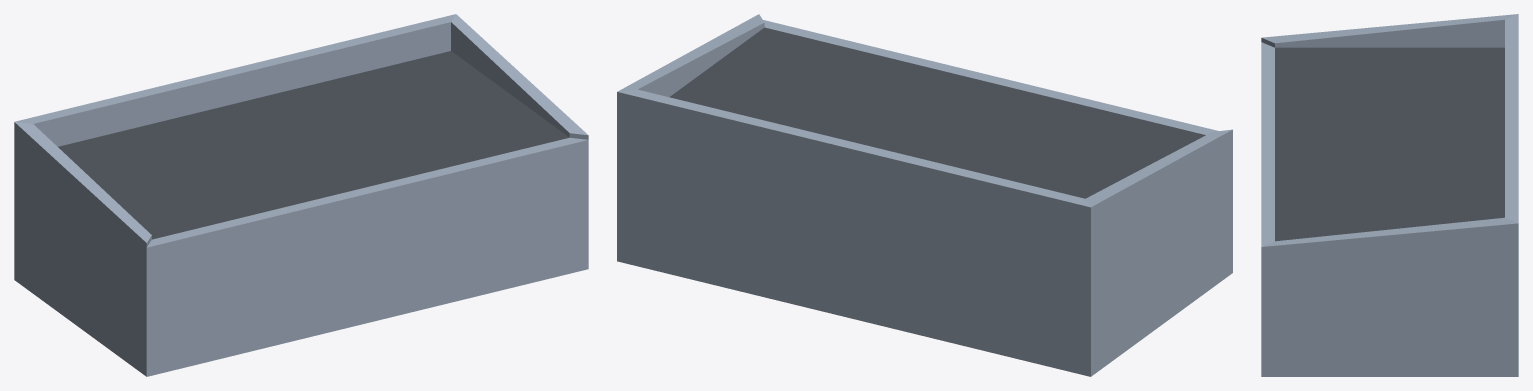
Rendered from appliances.glb.
The picture shows the model from 3 angles, left to right: view 1: azimuth 30°, elevation 25°; view 2: azimuth 150°, elevation 25°; view 3: azimuth 270°, elevation 25°; orthographic projection. The views are drawn at different scales.
Parts seen in each view (by area): view 1: grill, grill_top; view 2: grill, grill_top; view 3: grill, grill_top.
Boxes of the visible parts, bbox=[...] form: grill: bbox=[14, 14, 588, 376]; grill_top: bbox=[58, 51, 569, 239]; grill: bbox=[617, 14, 1232, 376]; grill_top: bbox=[669, 27, 1205, 198]; grill: bbox=[1261, 14, 1518, 376]; grill_top: bbox=[1275, 47, 1504, 241].
Size of the model in its own units: 2.43 by 0.8318 by 1.26.
